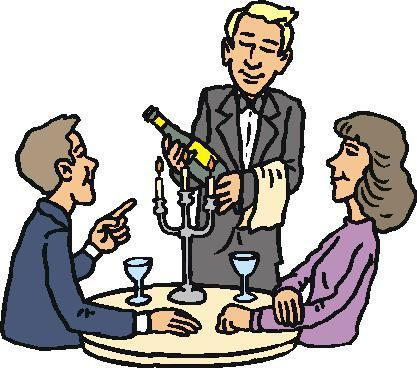bottle: (139, 104, 227, 188)
person: (215, 110, 415, 346), (4, 115, 201, 351), (155, 1, 305, 294)
